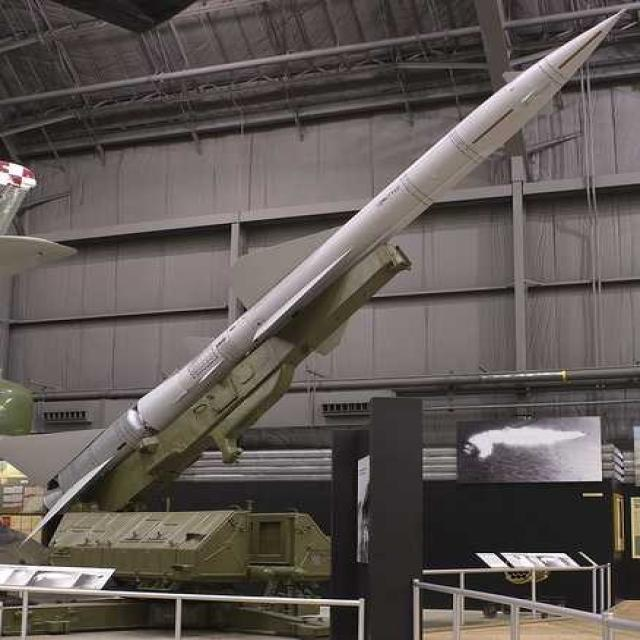missile: (0, 3, 639, 550)
